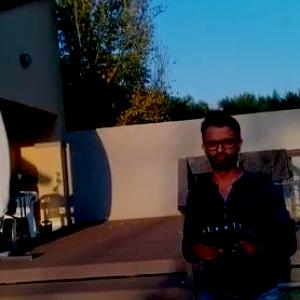follow: (177, 103, 299, 299)
